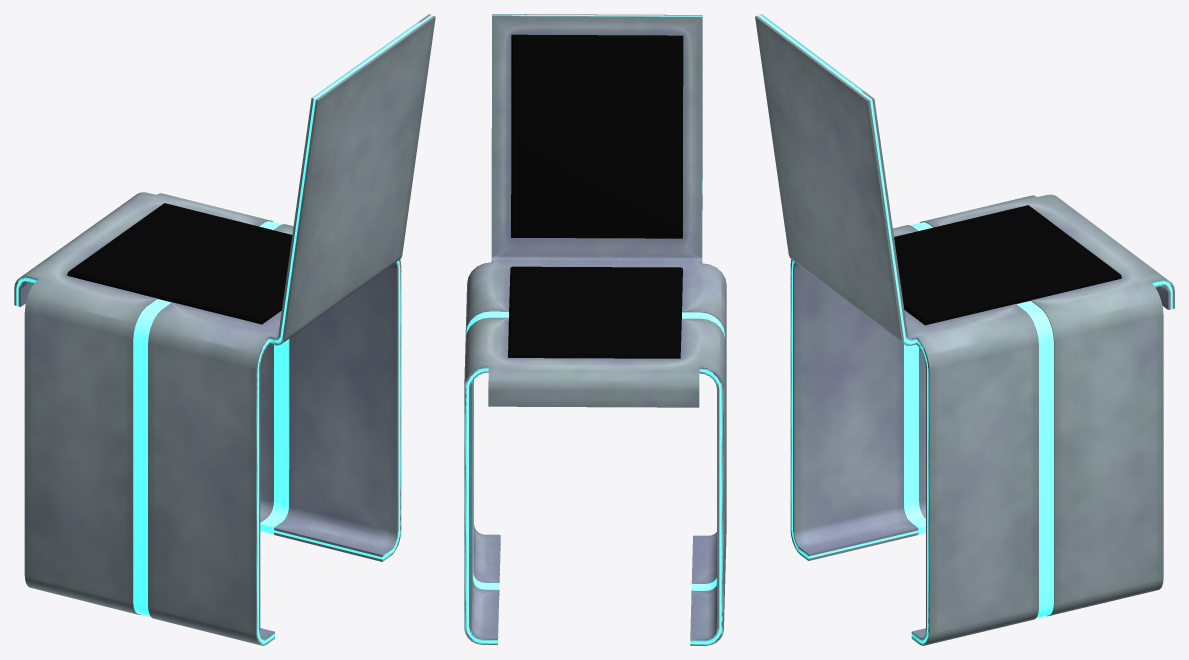
File: scifichair.fbx
3 renders of one model, left to right at view 1: azimuth 30°, elevation 25°; view 2: azimuth 150°, elevation 25°; view 3: azimuth 270°, elevation 25°, orthographic. The views are drawn at different scales.
Visible parts, largest first — view 1: Plane.004; view 2: Plane.004; view 3: Plane.004.
Part boxes in pixels (bbox=[...]): Plane.004: bbox=[14, 14, 435, 645]; Plane.004: bbox=[464, 14, 726, 645]; Plane.004: bbox=[755, 14, 1174, 645].
Size of the model in its own units: 74.26 by 118 by 81.44.
